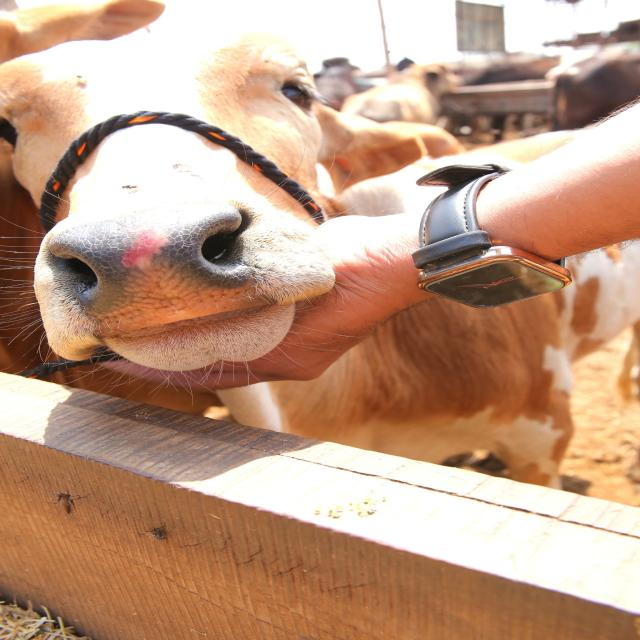muzzles: (32, 201, 289, 330)
